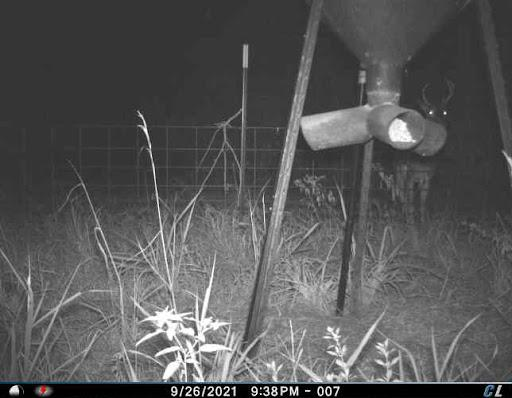Deer: (385, 65, 458, 234)
